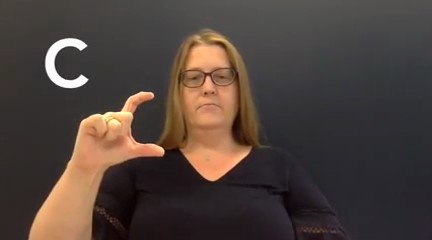C: (70, 86, 165, 170)
